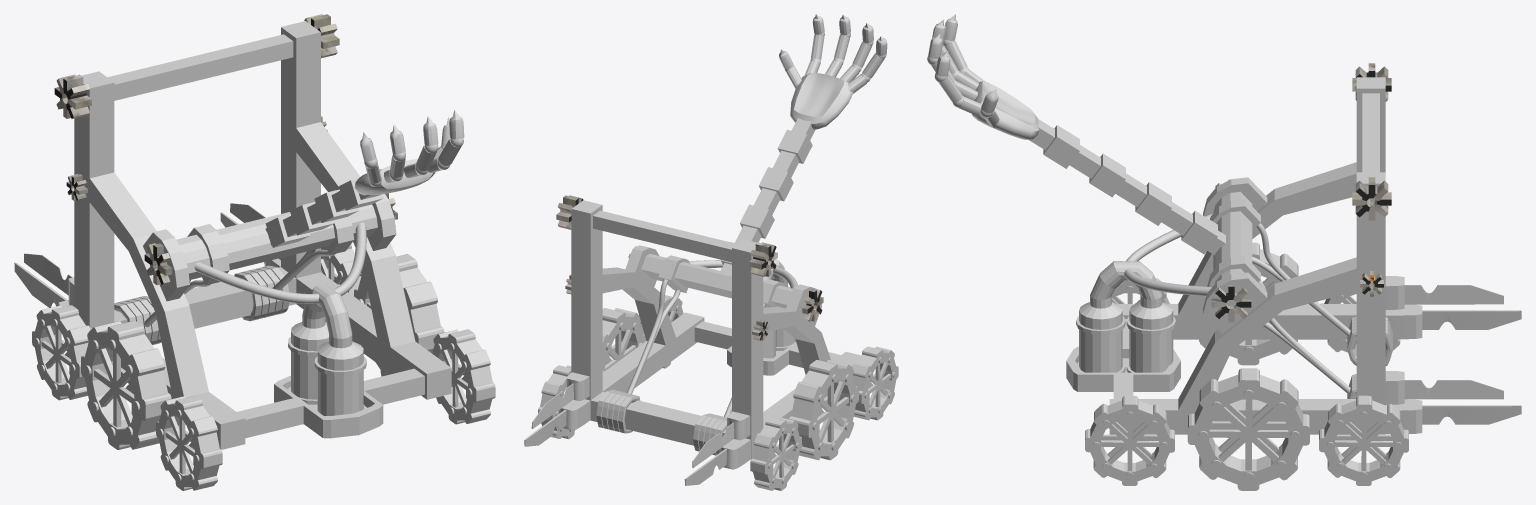
The model's file is catapulta tier 2.fbx.
3 renders of one model, left to right at view 1: azimuth 30°, elevation 25°; view 2: azimuth 150°, elevation 25°; view 3: azimuth 270°, elevation 25°, orthographic. The views are drawn at different scales.
Parts seen in each view (by area): view 1: Cube.147, Cylinder.067, Cylinder.089, Cylinder.081, Cube.146, Cylinder.079, Cylinder.087, Cube.148, Cylinder.085, NurbsPath.071, Torus.008, Cube.151 (+7 smaller); view 2: Cube.147, Cube.146, Cylinder.067, Cube.148, Cylinder.079, Cylinder.081, Cylinder.085, Cube.155, Cube.156, Torus.008, Cube.158, Cube.157 (+8 smaller); view 3: Cube.147, Cylinder.085, Cylinder.089, Cube.148, Cylinder.086, Cylinder.087, Cube.146, Cube.156, Cube.155, Cube.157, Cube.158, Cylinder.067 (+6 smaller).
Boxes of the visible parts, x1,y1,x2,y2 form: Cube.147: [74, 21, 451, 449]; Cylinder.067: [81, 320, 171, 449]; Cylinder.089: [288, 284, 366, 415]; Cylinder.081: [156, 396, 222, 490]; Cube.146: [354, 110, 464, 195]; Cylinder.079: [32, 305, 90, 400]; Cylinder.087: [432, 329, 495, 424]; Cube.148: [265, 178, 383, 247]; Cylinder.085: [354, 254, 444, 376]; NurbsPath.071: [194, 222, 366, 303]; Torus.008: [234, 265, 289, 321]; Cube.151: [54, 74, 91, 118]; Cube.147: [571, 200, 860, 459]; Cube.146: [779, 14, 887, 129]; Cylinder.067: [789, 360, 858, 460]; Cube.148: [720, 118, 815, 273]; Cylinder.079: [750, 417, 802, 490]; Cylinder.081: [852, 346, 898, 420]; Cylinder.085: [602, 308, 646, 372]; Cube.155: [524, 399, 590, 446]; Cube.156: [684, 438, 750, 485]; Torus.008: [596, 390, 640, 433]; Cube.158: [692, 411, 750, 467]; Cube.157: [531, 372, 589, 428]; Cube.147: [1066, 77, 1385, 434]; Cylinder.085: [1187, 368, 1309, 490]; Cylinder.089: [1076, 261, 1175, 372]; Cube.148: [1028, 119, 1225, 255]; Cylinder.086: [1319, 395, 1408, 485]; Cylinder.087: [1085, 395, 1174, 485]; Cube.146: [927, 14, 1039, 139]; Cube.156: [1385, 304, 1521, 339]; Cube.155: [1385, 399, 1521, 434]; Cube.157: [1385, 371, 1503, 404]; Cube.158: [1385, 276, 1503, 309]; Cylinder.067: [1199, 242, 1298, 365].
Bounding box in the file's own units: 1462 × 1907 × 2630.
